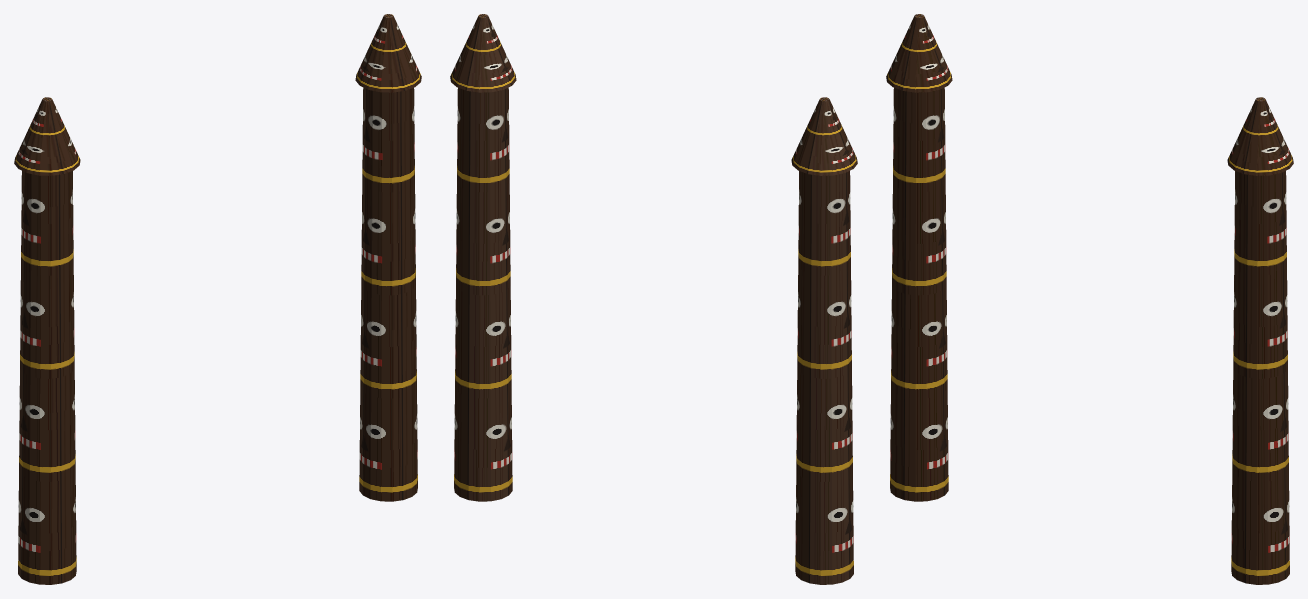
File: props.glb
3 views of the same model, side by side, from view 1: azimuth 30°, elevation 25°; view 2: azimuth 150°, elevation 25°; view 3: azimuth 330°, elevation 25° (orthographic).
Visible parts, largest first — view 1: Patung_Blontang_Kanan, Patung_Blontang_Kiri; view 2: Patung_Blontang_Kanan, Patung_Blontang_Kiri; view 3: Patung_Blontang_Kiri, Patung_Blontang_Kanan.
Boxes of the visible parts, <box> form: Patung_Blontang_Kanan: <box>355,14,421,501</box>; Patung_Blontang_Kiri: <box>14,97,80,584</box>; Patung_Blontang_Kanan: <box>450,14,516,501</box>; Patung_Blontang_Kiri: <box>791,97,857,584</box>; Patung_Blontang_Kiri: <box>886,14,952,501</box>; Patung_Blontang_Kanan: <box>1227,97,1293,584</box>.
Size of the model in its own units: 4.68 by 5.3 by 0.68.
Materials: 1 (1 with a texture image).
